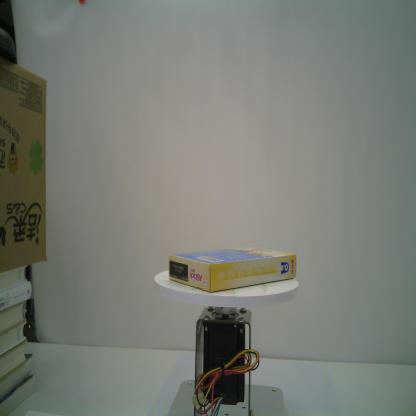Dessert: (168, 244, 298, 295)
